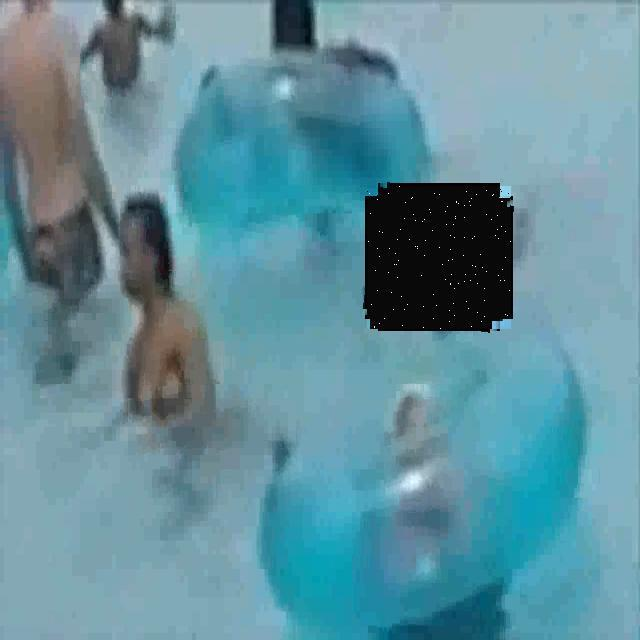Out of Water: (367, 186, 511, 329)
